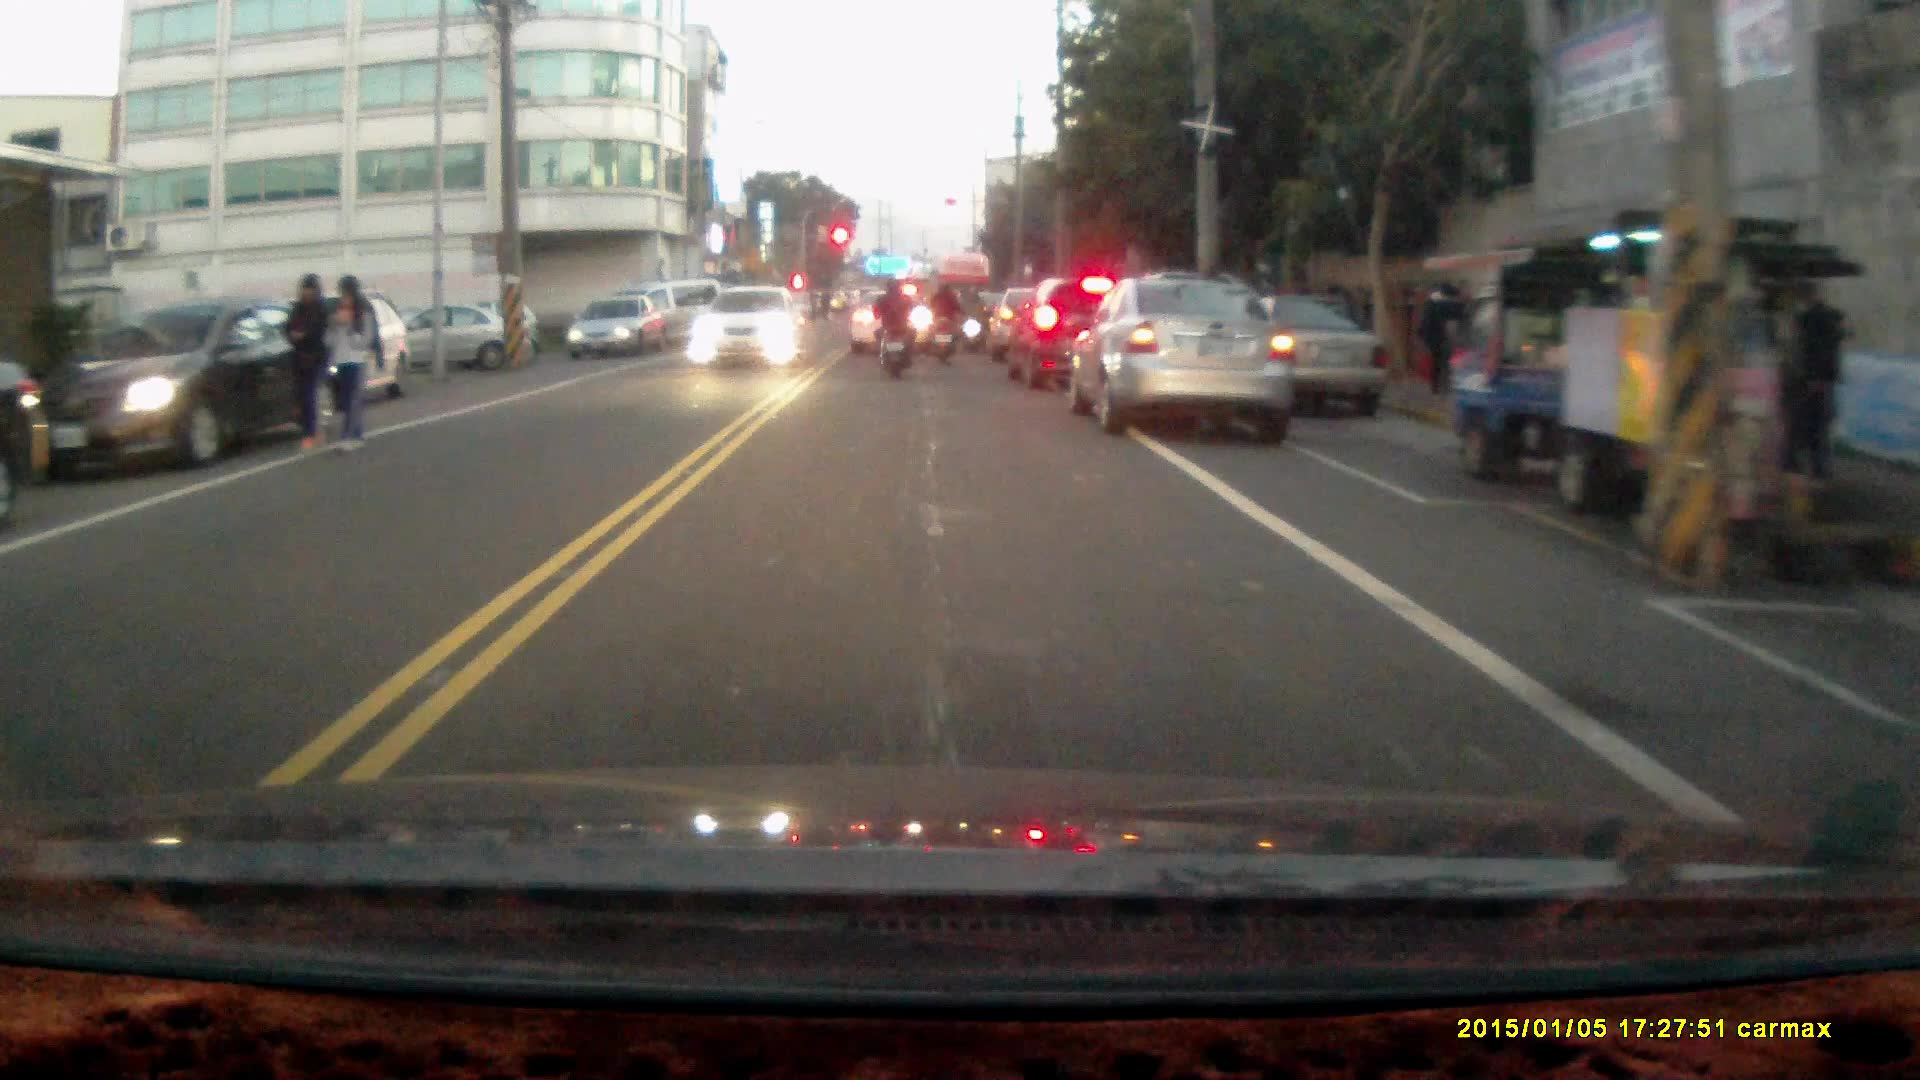pedestrian: (1790, 278, 1851, 484), (322, 274, 373, 455), (280, 267, 328, 451), (1420, 280, 1458, 404)
rider: (869, 273, 913, 379), (924, 279, 960, 363)
vehicle: (1445, 218, 1835, 513), (27, 297, 330, 481), (1077, 277, 1296, 439), (224, 290, 409, 418), (1012, 279, 1175, 396), (687, 291, 802, 375), (566, 301, 659, 365), (850, 294, 937, 360)
